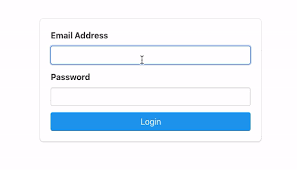button: (46, 110, 254, 134)
textbox: (47, 43, 255, 70), (47, 84, 254, 108)
